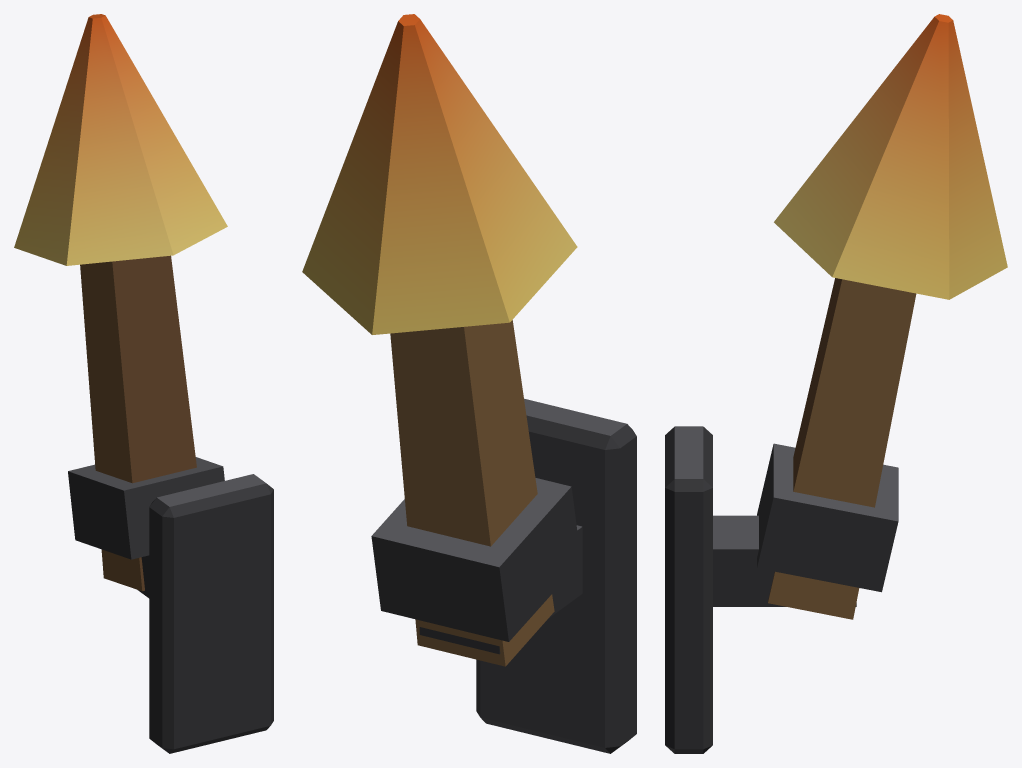
The model's file is torch.glb.
3 views of the same model, side by side, from view 1: azimuth 30°, elevation 25°; view 2: azimuth 150°, elevation 25°; view 3: azimuth 270°, elevation 25° (orthographic). The views are drawn at different scales.
Parts seen in each view (by area): view 1: WallTorch; view 2: WallTorch; view 3: WallTorch.
Part boxes in pixels (left/top/right/bottom): WallTorch: left=14, top=14, right=273, bottom=753; WallTorch: left=302, top=14, right=636, bottom=753; WallTorch: left=665, top=14, right=1007, bottom=753.
Size of the model in its own units: 0.1299 by 0.4915 by 0.2147.
